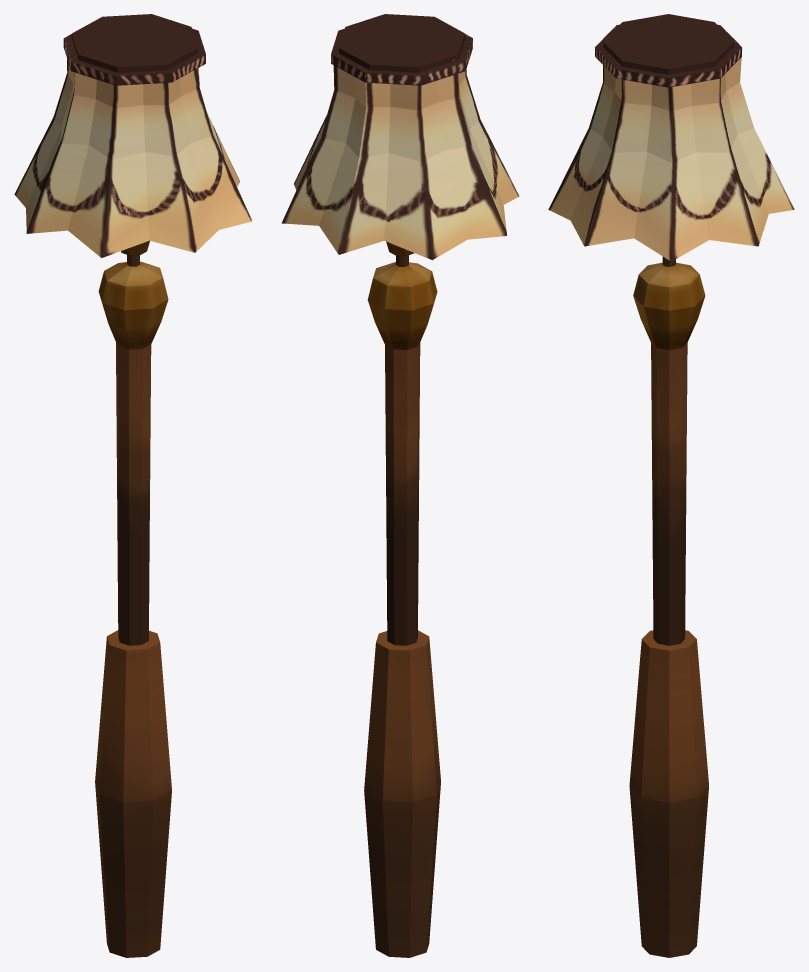
File: lamp.fbx
The picture shows the model from 3 angles, left to right: view 1: azimuth 30°, elevation 25°; view 2: azimuth 150°, elevation 25°; view 3: azimuth 270°, elevation 25°; orthographic projection.
Visible parts, largest first — view 1: abajur; view 2: abajur; view 3: abajur.
Part boxes in pixels (x1=…): abajur: x1=14, y1=14, x2=252, y2=957; abajur: x1=282, y1=14, x2=519, y2=957; abajur: x1=548, y1=14, x2=794, y2=957.
Size of the model in its own units: 28.71 by 116 by 28.71.
